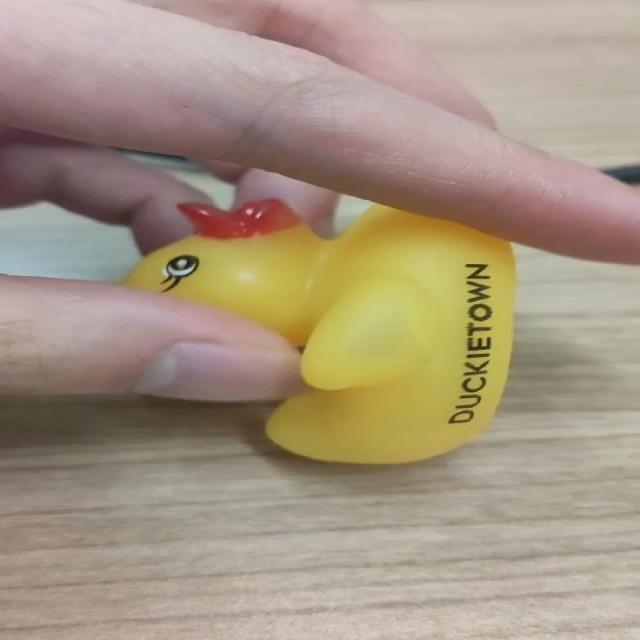rubber-duck: (122, 199, 514, 461)
